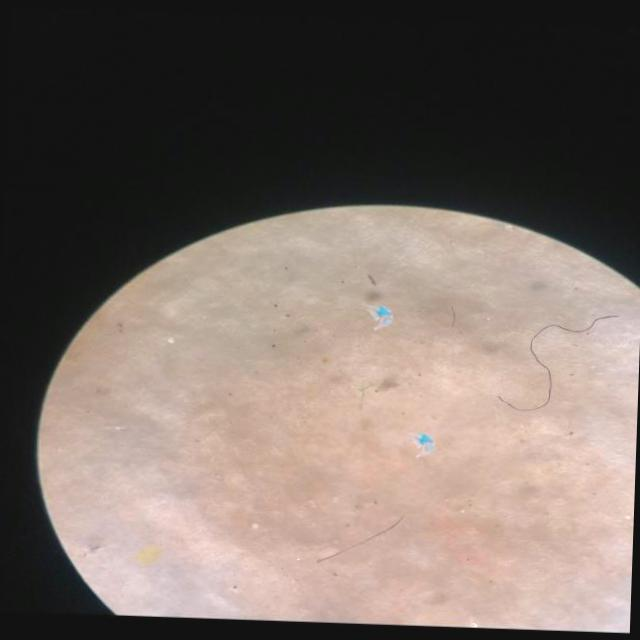fiber: (498, 314, 618, 411), (316, 516, 403, 562)
fragment: (136, 546, 158, 563)
pellet: (166, 337, 173, 343), (251, 523, 258, 529)
